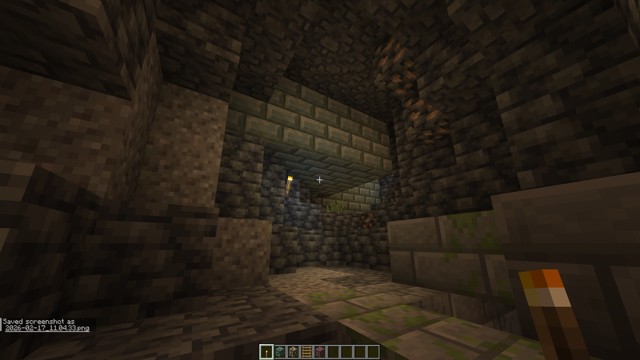iron: (368, 36, 451, 142), (359, 212, 374, 227)
